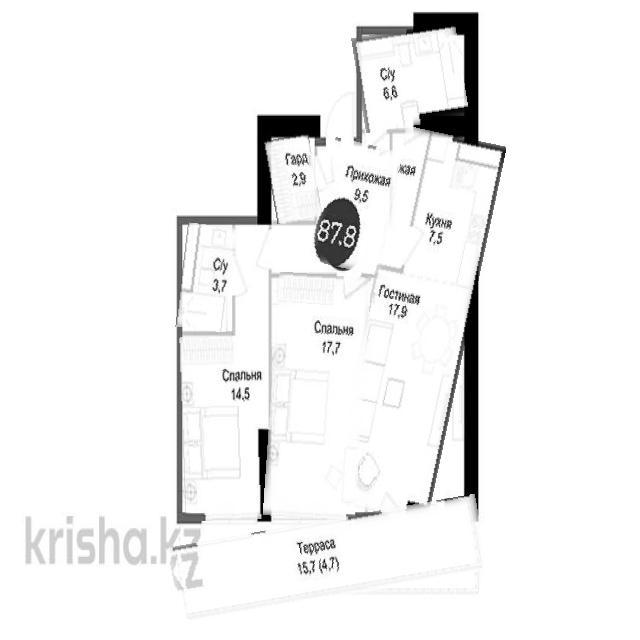balcony: (170, 507, 486, 611)
bathroom: (355, 26, 466, 130), (178, 224, 235, 331)
hallway: (314, 140, 395, 272)
living_room: (268, 274, 368, 520), (181, 335, 268, 521)
other: (267, 135, 319, 222)
studio: (327, 133, 506, 521)
